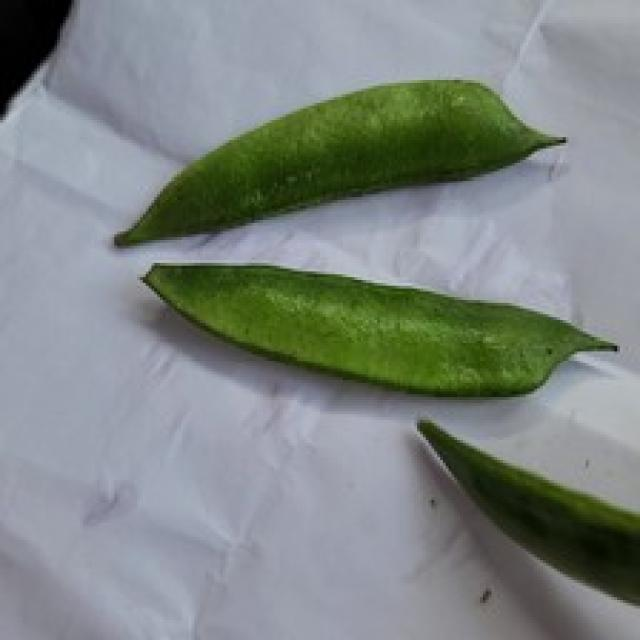Bean: (111, 74, 566, 246), (137, 257, 617, 397), (414, 414, 637, 614)
